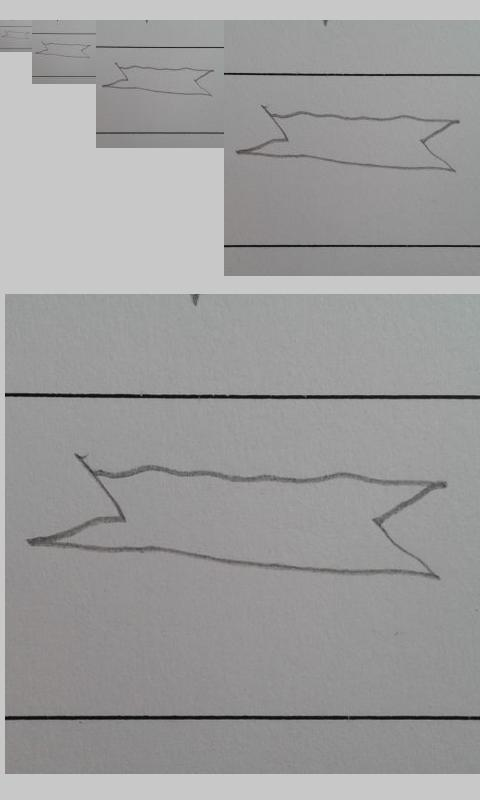edit_text: (30, 455, 447, 581), (236, 105, 460, 172), (101, 62, 214, 97), (35, 41, 90, 59), (2, 29, 31, 40)
